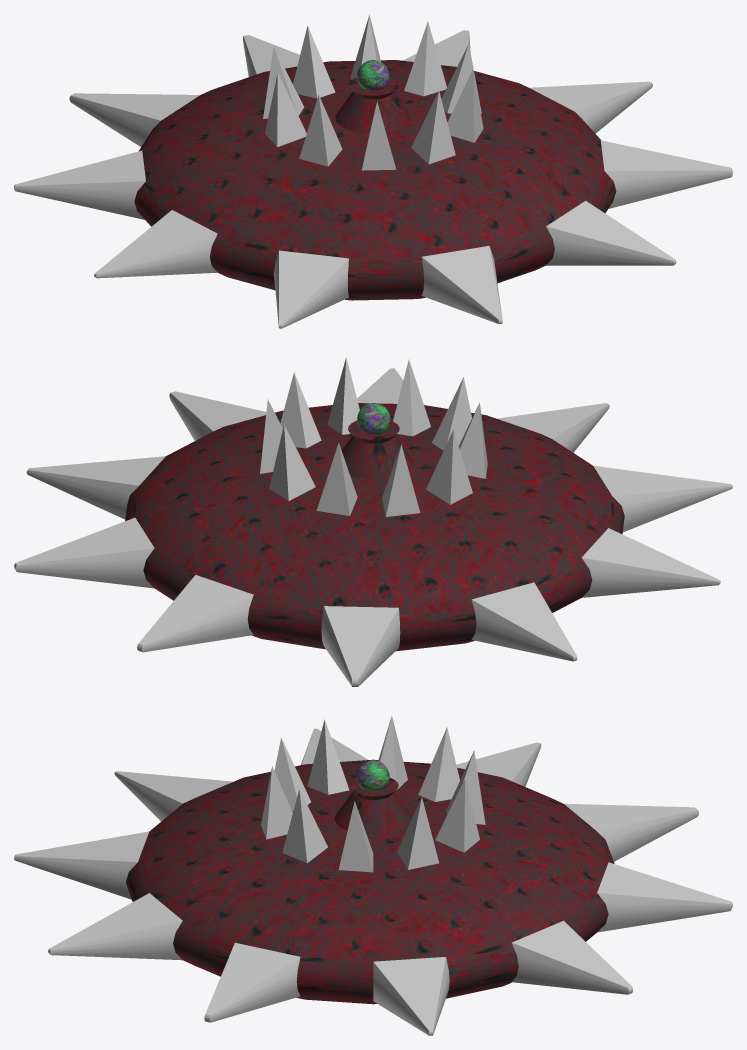
File: model_enemyBoss.fbx
The picture shows the model from 3 angles, top to bottom: view 1: azimuth 30°, elevation 25°; view 2: azimuth 150°, elevation 25°; view 3: azimuth 270°, elevation 25°; orthographic projection. The views are drawn at different scales.
Parts seen in each view (by area): view 1: pSphere3; view 2: pSphere3; view 3: pSphere3.
Boxes of the visible parts, <box> form: pSphere3: <box>14,14,732,328</box>; pSphere3: <box>14,357,732,686</box>; pSphere3: <box>14,715,732,1035</box>.
Size of the model in its own units: 1327 by 384 by 1328.
